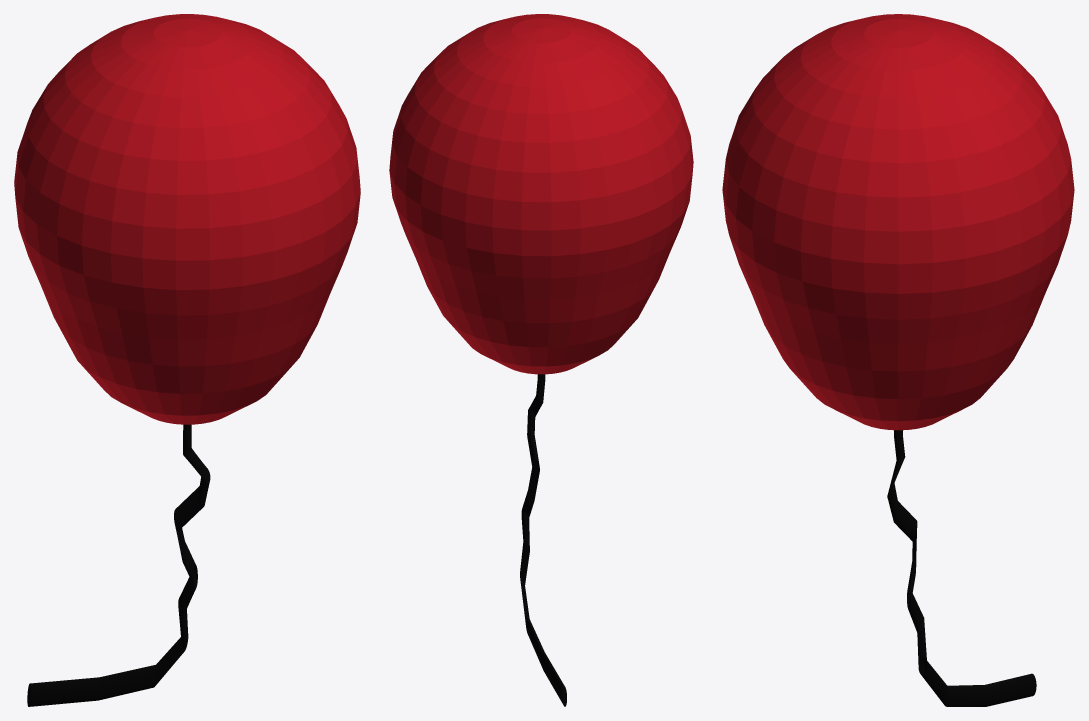
File: ballon.fbx
3 views of the same model, side by side, from view 1: azimuth 30°, elevation 25°; view 2: azimuth 150°, elevation 25°; view 3: azimuth 270°, elevation 25° (orthographic). The views are drawn at different scales.
Parts seen in each view (by area): view 1: Sphere, Cylinder; view 2: Sphere, Cylinder; view 3: Sphere, Cylinder.
Boxes of the visible parts, bbox=[...] form: Sphere: bbox=[14, 14, 360, 424]; Cylinder: bbox=[27, 424, 210, 706]; Sphere: bbox=[389, 14, 693, 374]; Cylinder: bbox=[520, 374, 566, 706]; Sphere: bbox=[722, 14, 1074, 430]; Cylinder: bbox=[887, 430, 1036, 706].
Size of the model in its own units: 200 by 446 by 200.
